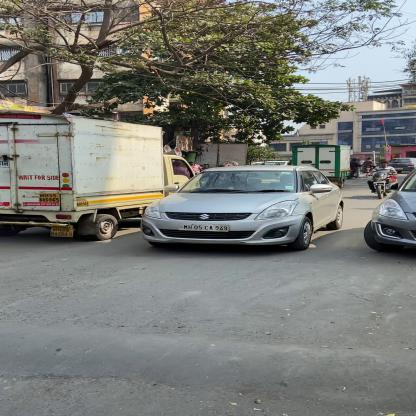license: (180, 222, 233, 234)
